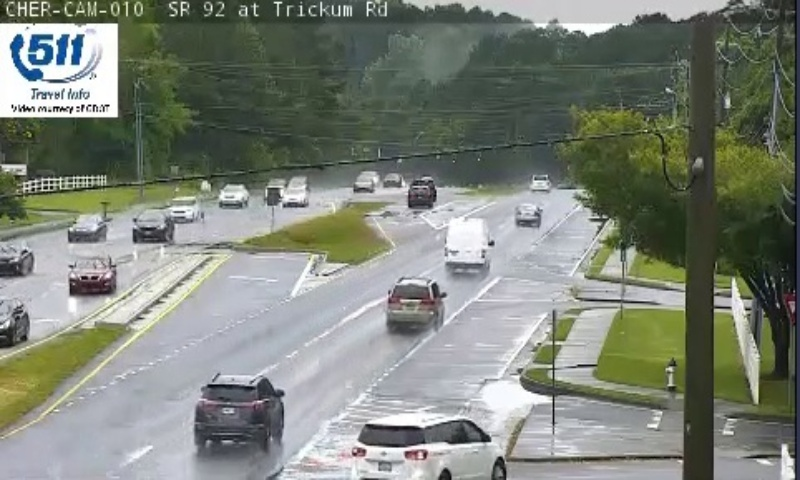car: (194, 373, 283, 436), (388, 279, 443, 324), (514, 203, 541, 227)
van: (446, 220, 489, 270)
